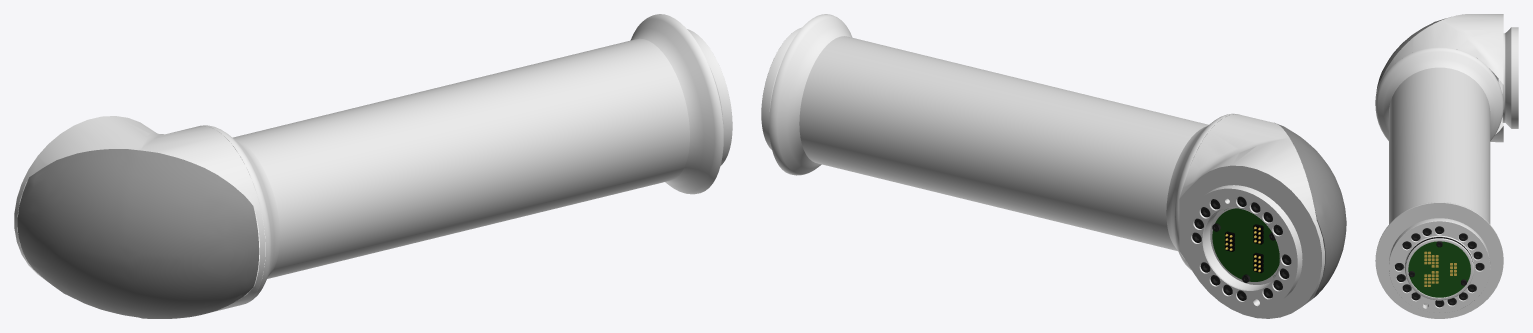
3 views of the same model, side by side, from view 1: azimuth 30°, elevation 25°; view 2: azimuth 150°, elevation 25°; view 3: azimuth 270°, elevation 25° (orthographic). The views are drawn at different scales.
Parts seen in each view (by area): view 1: L86.001; view 2: L86.001; view 3: L86.001.
Part boxes in pixels (box(x1,y1,x2,y2)): L86.001: box(14, 14, 732, 318); L86.001: box(761, 14, 1346, 318); L86.001: box(1375, 14, 1518, 318).
Size of the model in its own units: 0.3479 by 0.0862 by 0.0961.
